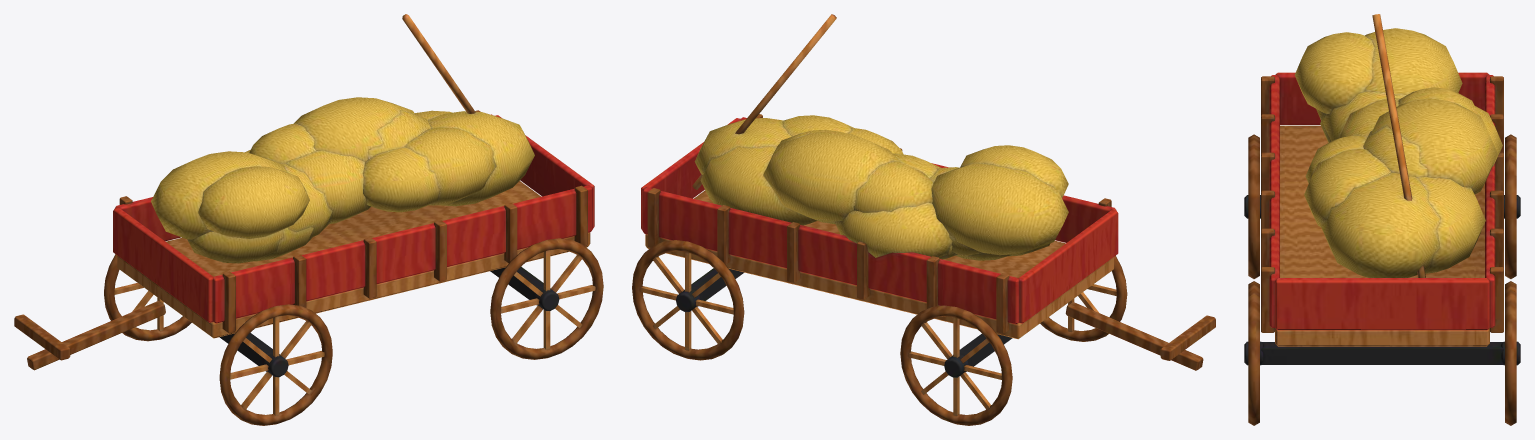
Rendered from hay_wagon.glb.
3 renders of one model, left to right at view 1: azimuth 30°, elevation 25°; view 2: azimuth 150°, elevation 25°; view 3: azimuth 270°, elevation 25°, orthographic. The views are drawn at different scales.
Parts seen in each view (by area): view 1: hay_wagon; view 2: hay_wagon; view 3: hay_wagon.
Part boxes in pixels (x1,y1,x2,y2): hay_wagon: [14, 14, 603, 425]; hay_wagon: [632, 14, 1215, 425]; hay_wagon: [1244, 14, 1520, 425].
Bounding box in the file's own units: 1.91 × 1.14 × 0.797.
1 material, 1 textured.
